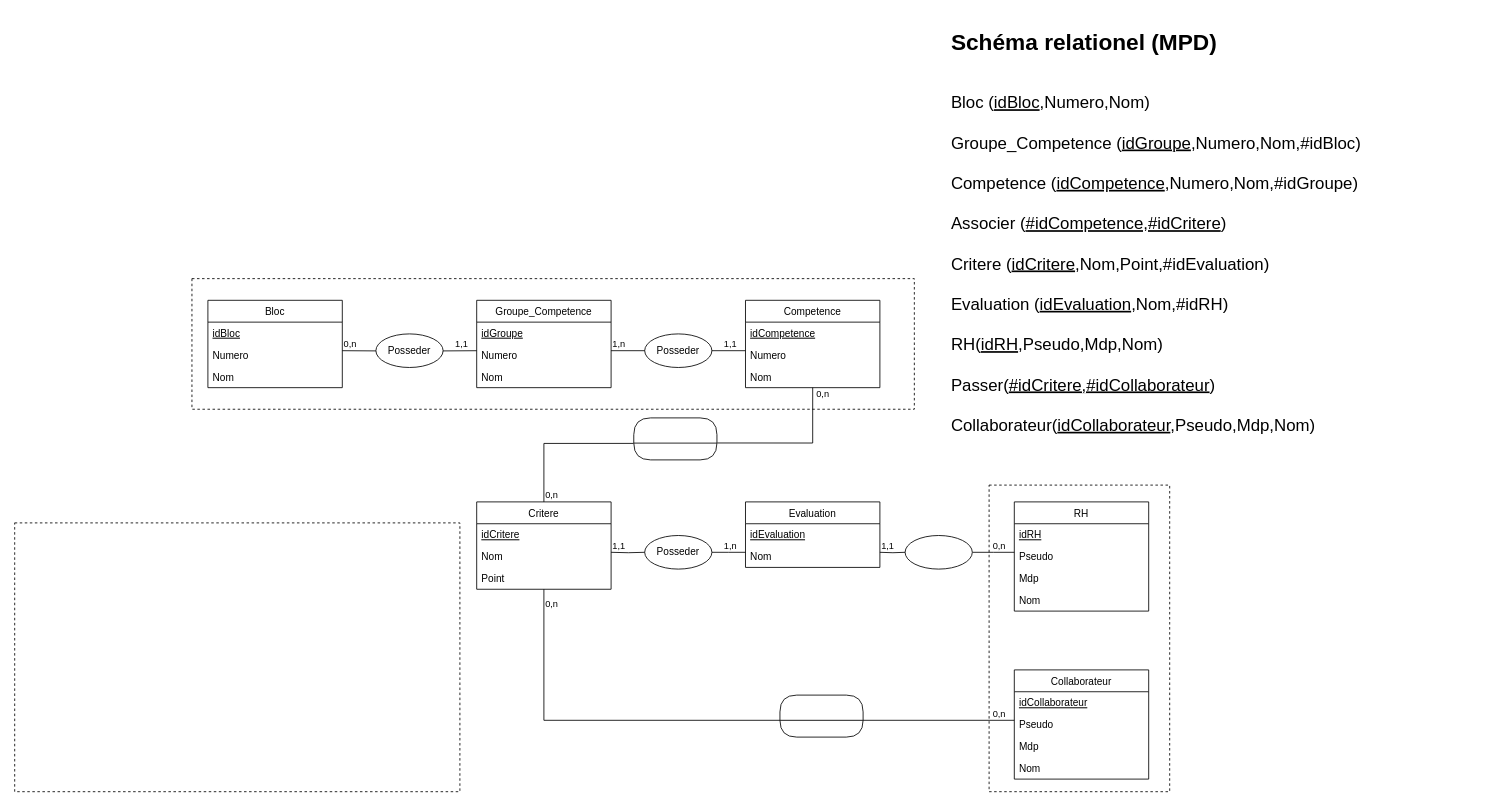
This 1499x806 diagram has some shape labels left out. The centre of each missing label's shape, as x and y in pixels:
Associer: (675,438)
Creer: (938,552)
Passer: (821,715)
